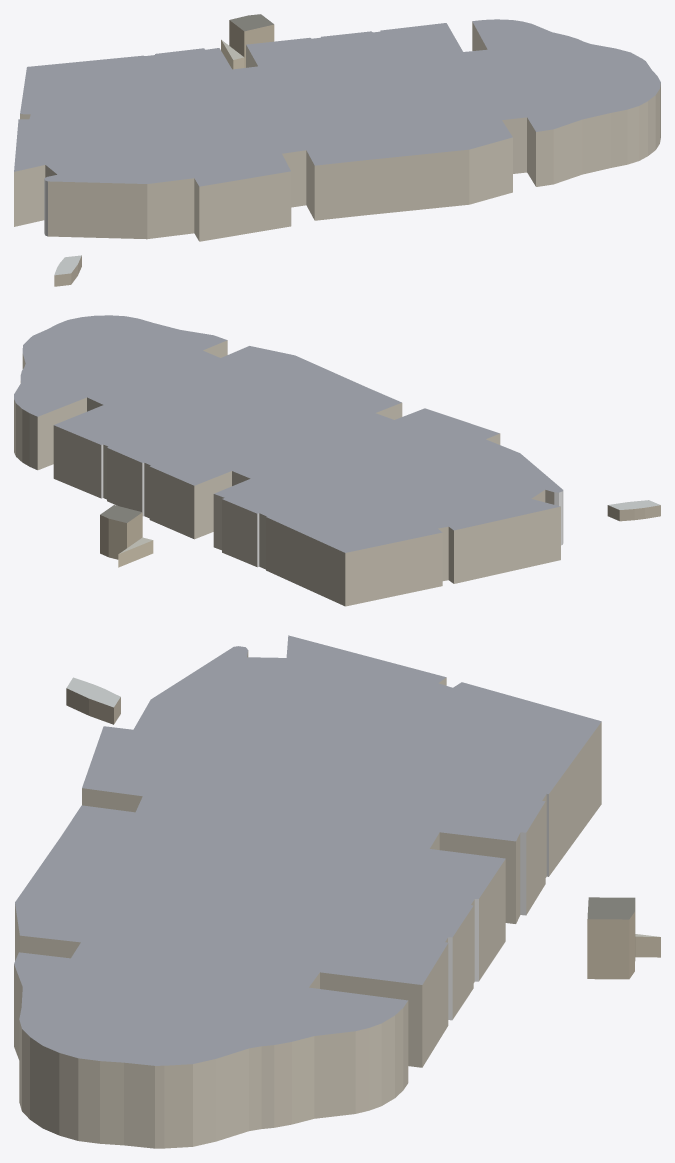
The picture shows the model from 3 angles, top to bottom: view 1: azimuth 30°, elevation 25°; view 2: azimuth 150°, elevation 25°; view 3: azimuth 270°, elevation 25°; orthographic projection. The views are drawn at different scales.
Parts seen in each view (by area): view 1: tuile; view 2: tuile; view 3: tuile.
Part boxes in pixels (x1,y1,x2,y2): tuile: (14, 14, 660, 286); tuile: (14, 315, 660, 606); tuile: (14, 635, 660, 1148).
Size of the model in its own units: 367 by 31.19 by 221.
